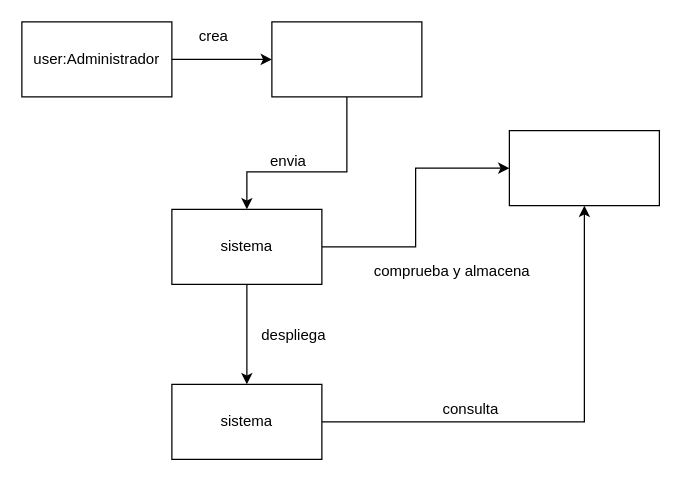
The diagram is 681 pixels wide and 481 high, and some of its shapes have lost their labels. The shapes that lost their labels are listed below. From the top down, each one's centre as x and y in pixels, then its label:
At pixel 346 59: "nueva faena".
At pixel 583 167: "base de datos".
